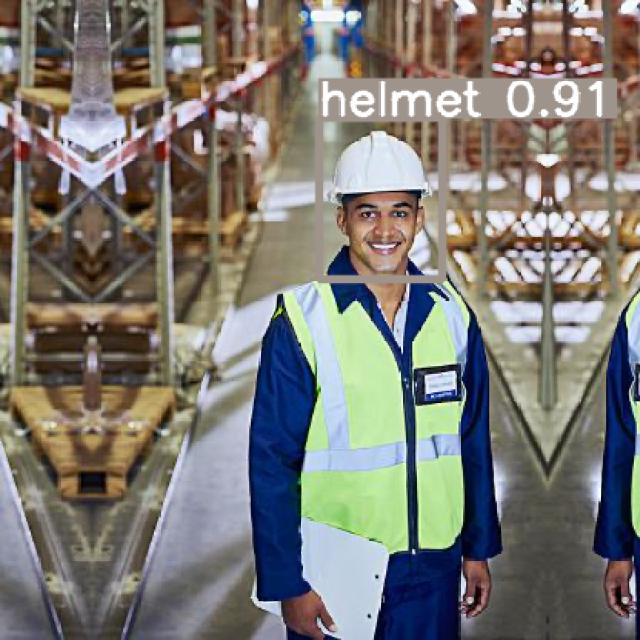helmet: (318, 117, 442, 278)
